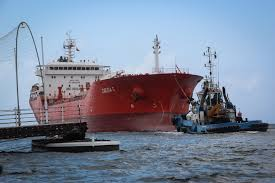tau_dansu: (28, 51, 195, 131), (174, 76, 268, 140)
